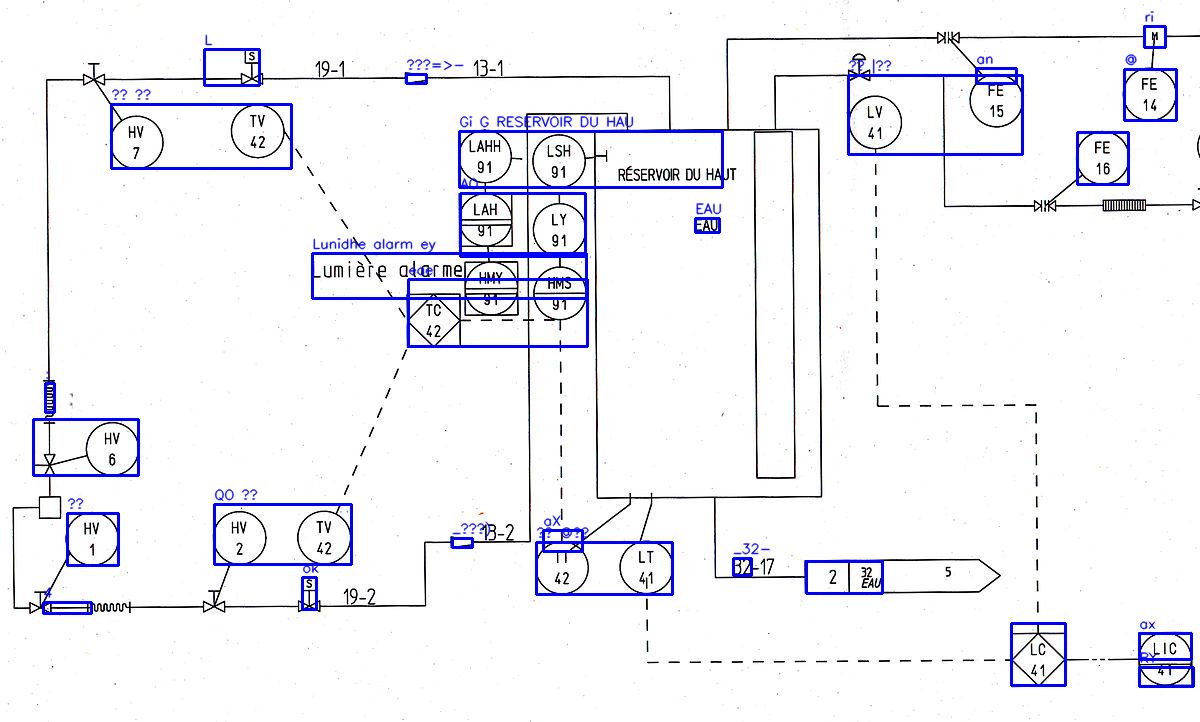Instrumento: (1136, 630, 1195, 689), (455, 127, 515, 184), (1010, 631, 1068, 689), (617, 539, 676, 596), (108, 114, 165, 172), (968, 72, 1026, 129), (530, 132, 587, 189), (211, 511, 269, 567), (294, 509, 352, 565), (1121, 66, 1179, 122), (847, 94, 903, 151), (1074, 129, 1131, 185), (64, 510, 119, 568), (85, 420, 140, 478), (530, 202, 588, 256), (457, 192, 513, 247), (405, 292, 460, 347), (229, 104, 285, 158), (533, 541, 589, 595)
Outro: (802, 555, 1001, 595), (533, 266, 588, 321), (464, 260, 518, 315)
Válvula: (237, 44, 267, 89), (296, 574, 323, 614), (844, 50, 874, 84), (29, 451, 63, 478), (26, 588, 54, 617), (201, 586, 227, 615), (81, 59, 107, 87)
